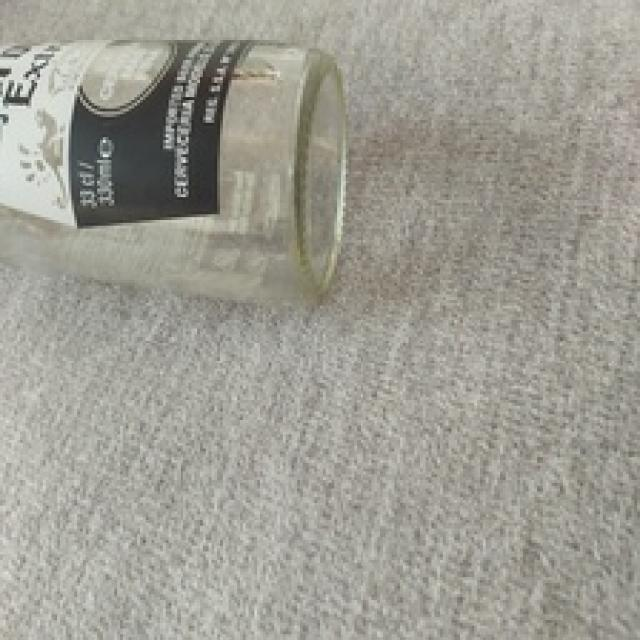Glass: (0, 39, 346, 298)
